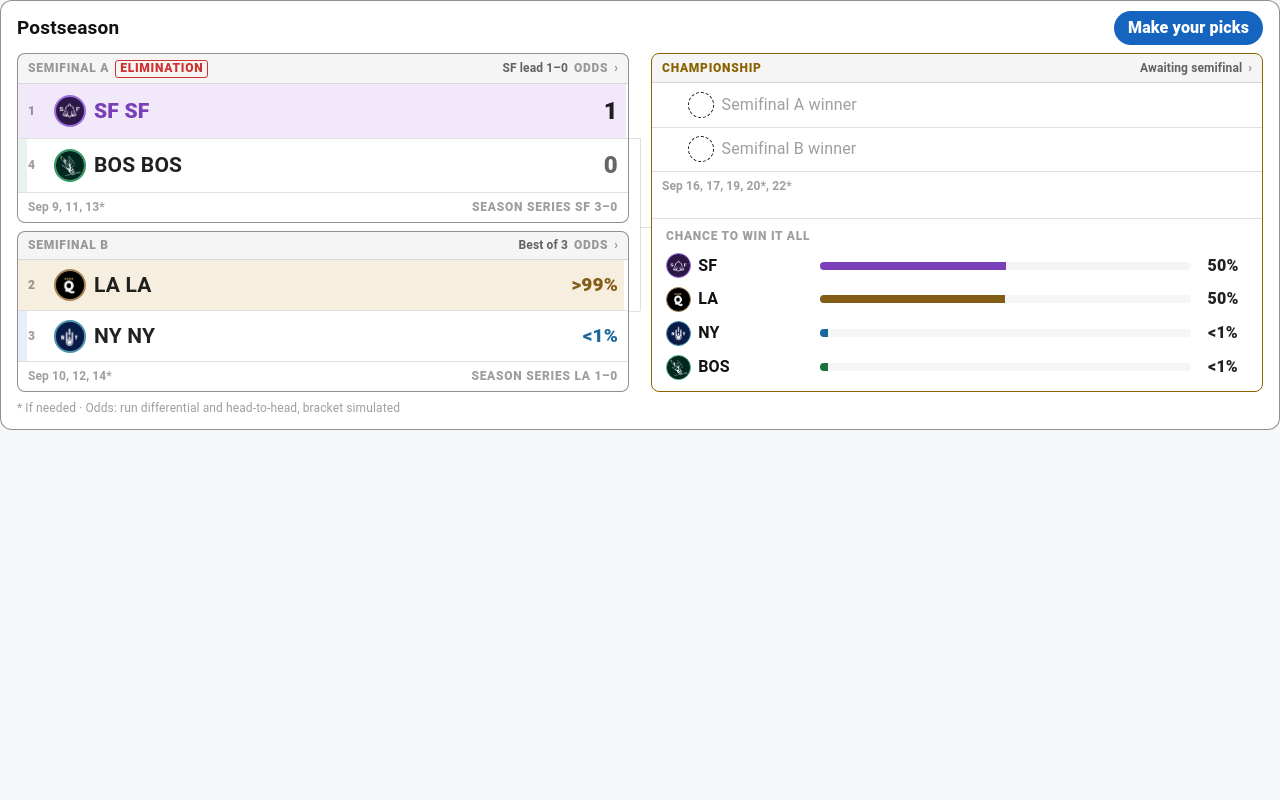
Scenario: picking a series › locks a series that has started
Click the button "Make your picks".
click(1188, 28)  # box [1114, 11, 1263, 45]
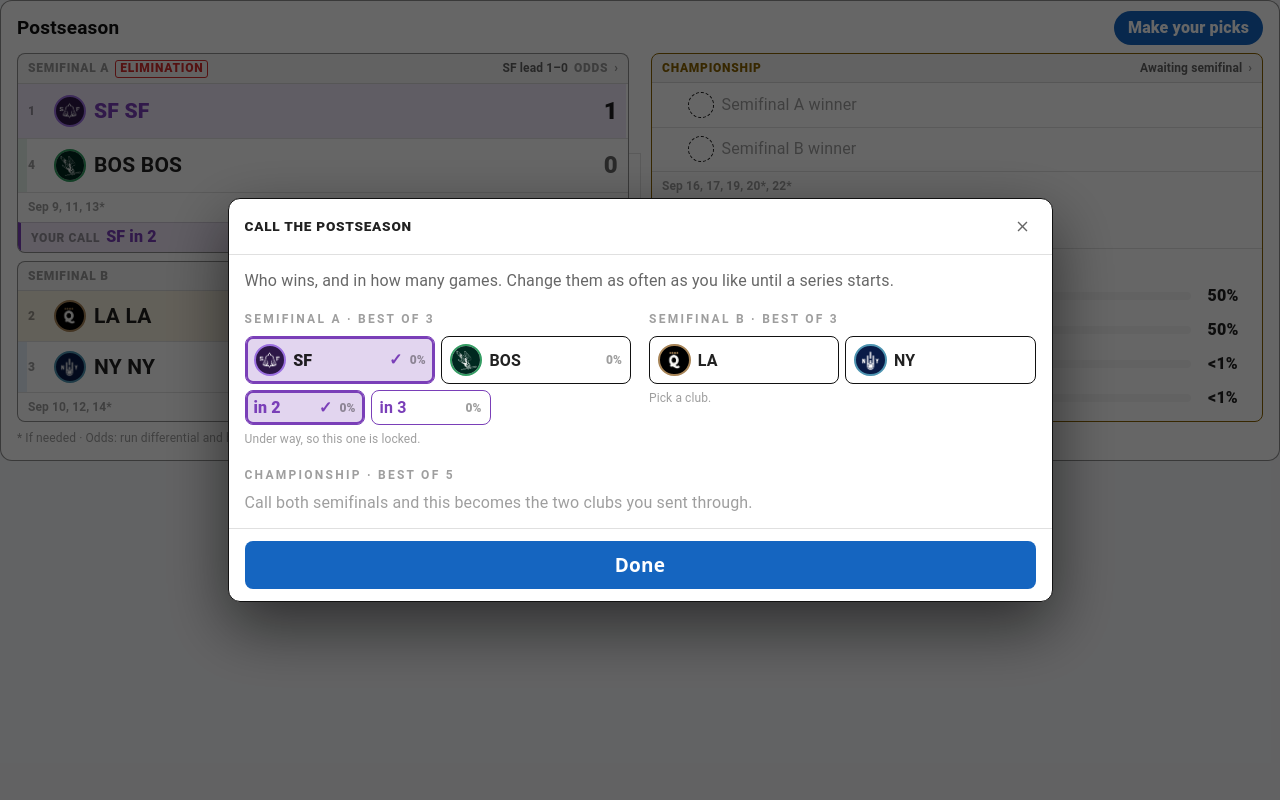
Expected: the text "Call the postseason" is shown, [244, 218, 412, 234]
Expected: the text "Under way, so this one is locked." is shown, [244, 432, 420, 446]
